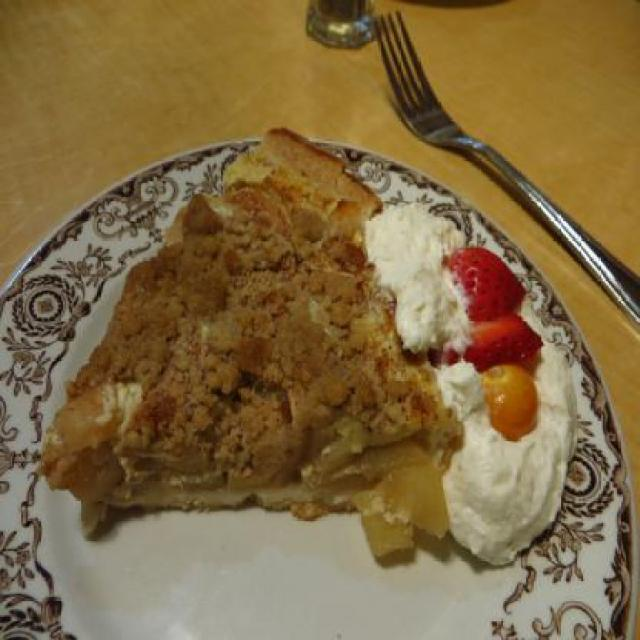Strawberry: (446, 312, 544, 378), (460, 249, 528, 328)
